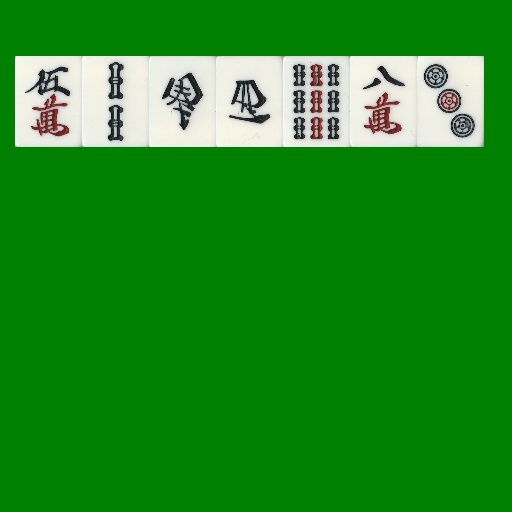2s: (82, 56, 149, 147)
3p: (417, 56, 484, 147)
5m: (15, 56, 82, 147)
8m: (350, 56, 417, 147)
9s: (283, 56, 350, 147)
south: (149, 56, 216, 147)
west: (216, 56, 283, 147)
